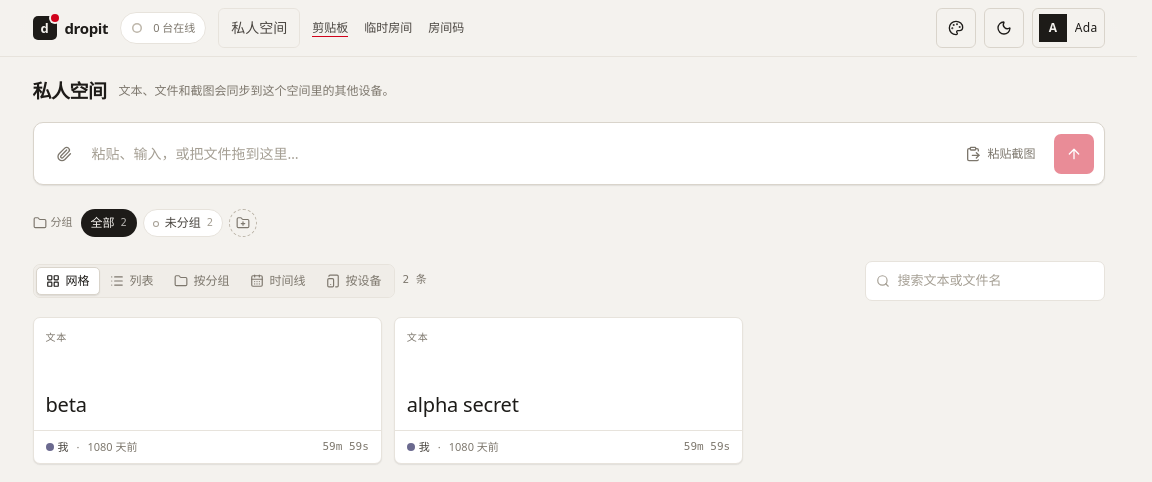
Test: dropit web › filters clipboard text on the current snapshot
Expected: the button named "发送" is shown, [1054,134,1094,174]
Expected: the text "alpha secret" is shown, [407,390,519,418]
Type "alpha" into the search field labelled "搜索".
click(984, 281); type("alpha")  # box [866,263,1104,298]
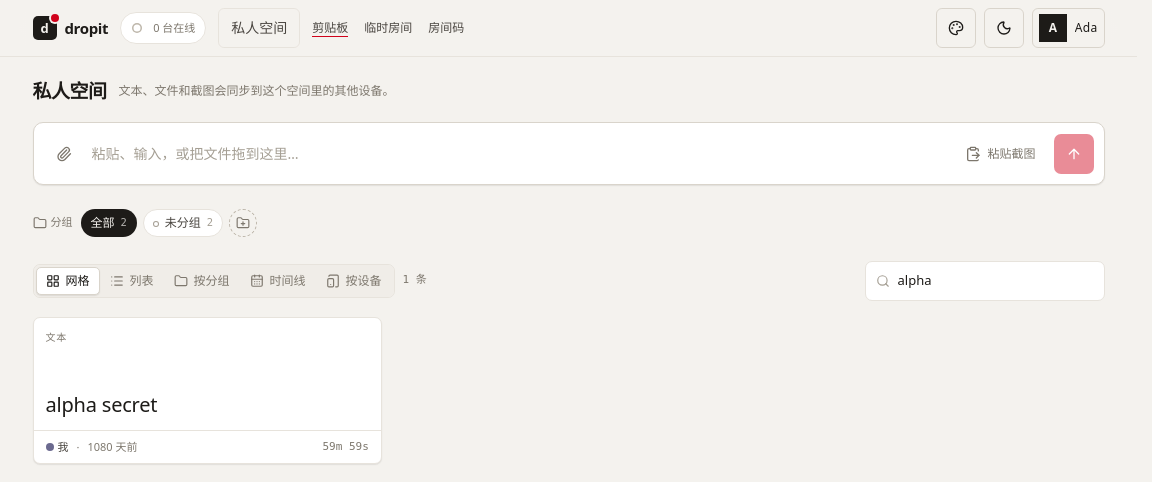
Expected: the text "alpha secret" is shown, [46,390,157,418]
Now the text "beta" is gone
Replace the text in the search field named "搜索" with "missing" at (984, 281), box [866,263,1104,298]
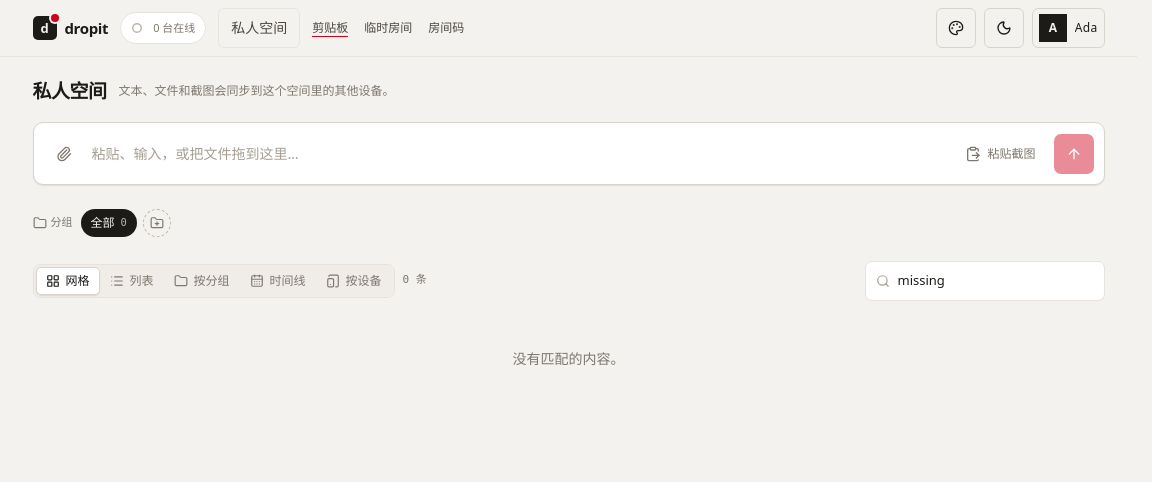
Now the text "没有匹配的内容。" is shown, box [512,348,624,368]
